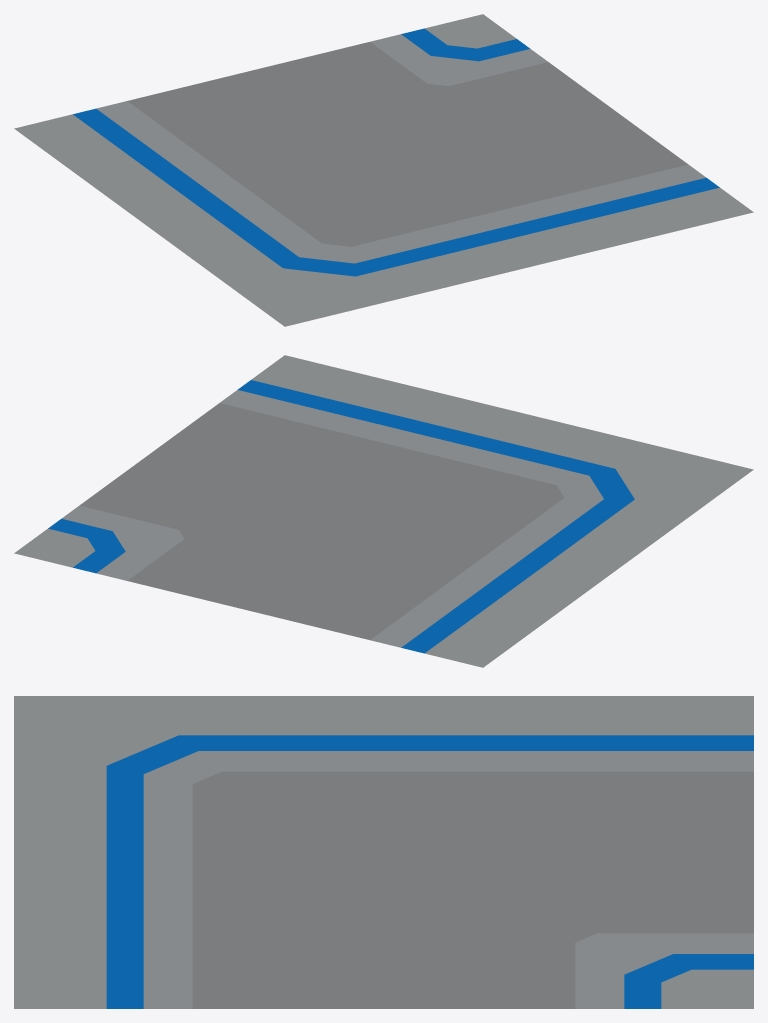
The model's file is Ceiling_type_B_004.fbx.
3 views of the same model, one above another, from view 1: azimuth 30°, elevation 25°; view 2: azimuth 150°, elevation 25°; view 3: azimuth 270°, elevation 25° (orthographic). The views are drawn at different scales.
Visible parts, largest first — view 1: Ceiling_type_B_004; view 2: Ceiling_type_B_004; view 3: Ceiling_type_B_004.
Part boxes in pixels (<box>): Ceiling_type_B_004: <box>14,14,753,326</box>; Ceiling_type_B_004: <box>14,355,753,667</box>; Ceiling_type_B_004: <box>14,696,753,1008</box>.
Bounding box in the file's own units: 400 × 400 × 4.55.
